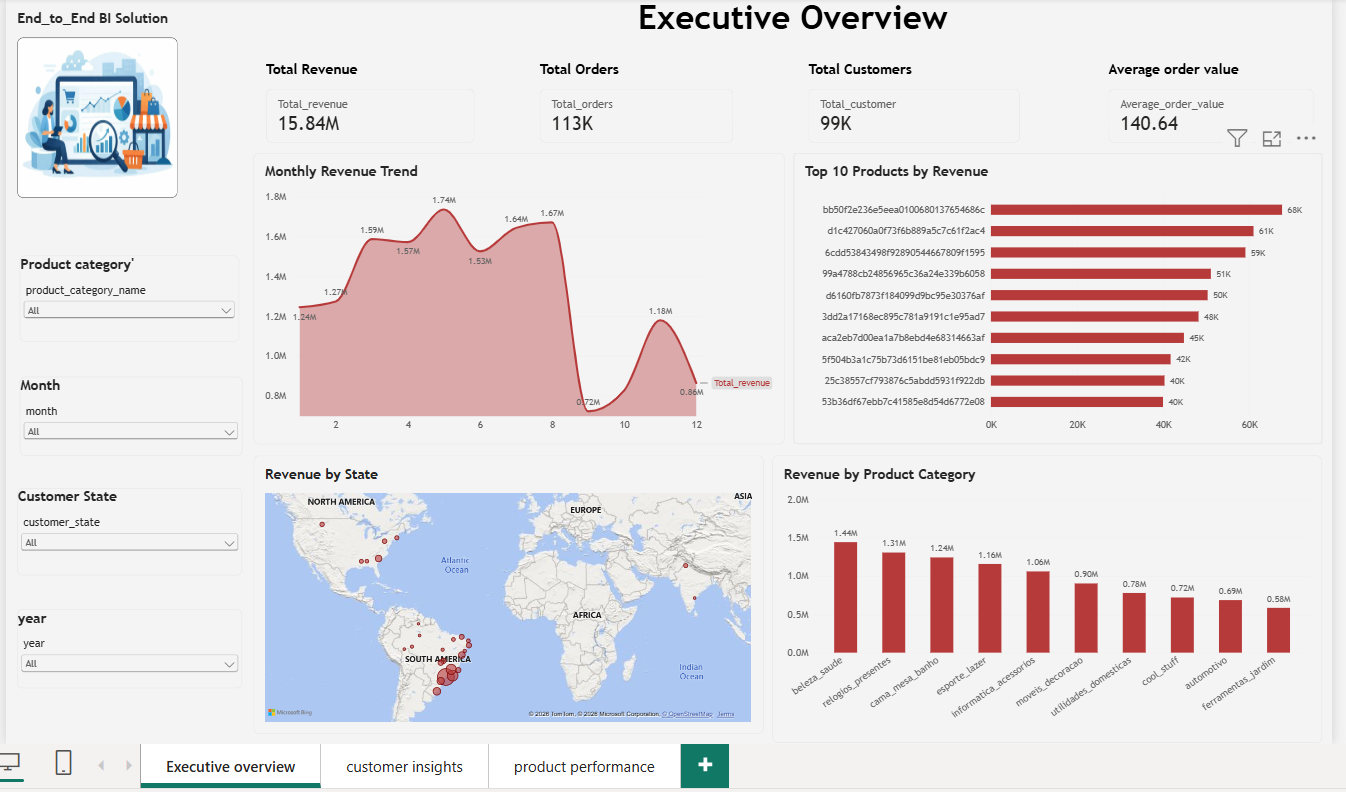

What the dashboard file says about the page in this screenshot:
{"tool":"powerbi","page":{"name":"Executive overview","canvas":[1920,1080],"ordinal":0},"visuals":[{"type":"cardVisual","title":"Total Revenue","fields":{"Data":["olist_bi fact_sales.Total_revenue"]},"box":[376,91.7,302.7,117.4],"z":0},{"type":"cardVisual","title":"Total Orders","fields":{"Data":["olist_bi fact_sales.Total_orders"]},"box":[772.2,91.7,280.6,117.4],"z":1000},{"type":"cardVisual","title":"Total Customers","fields":{"Data":["olist_bi dim_customer.Total_customer"]},"box":[1161.1,91.7,306.3,117.4],"z":2000},{"type":"cardVisual","title":"Average order value","fields":{"Data":["olist_bi fact_sales.Average_order_value"]},"box":[1595.8,91.7,297.1,117.4],"z":3000},{"type":"lineChart","title":"Monthly Revenue Trend","fields":{"Category":["olist_bi fact_sales.month"],"Y":["olist_bi fact_sales.Total_revenue"]},"box":[357.7,223.8,768.6,421.9],"z":4000},{"type":"slicer","title":"year","fields":{"Values":["olist_bi fact_sales.year"]},"box":[16.3,884.9,325.7,114],"z":5000},{"type":"slicer","title":"Month","fields":{"Values":["olist_bi fact_sales.month"]},"box":[19.9,548.3,322.1,114],"z":6000},{"type":"slicer","title":"Product category''","fields":{"Values":["olist_bi dim_product.product_category_name"]},"box":[19.9,372.8,317.3,124.7],"z":7000},{"type":"slicer","title":"Customer State","fields":{"Values":["olist_bi dim_customer.customer_state"]},"box":[16.3,709.4,325.7,126.7],"z":8000},{"type":"barChart","title":"Top 10 Products by Revenue","fields":{"Category":["olist_bi dim_product.product_id"],"Y":["olist_bi fact_sales.Total_revenue"]},"box":[1140.9,223.8,765.5,421.7],"z":9001},{"type":"columnChart","title":"Revenue by Product Category","fields":{"Category":["olist_bi dim_product.product_category_name"],"Y":["olist_bi fact_sales.Total_revenue"]},"box":[1109.3,662.3,796.3,416.2],"z":9002},{"type":"textbox","box":[358.3,0,1561.7,74.2],"z":9003},{"type":"image","title":"End_to_End BI Solution","box":[16.3,18.1,231.6,271.4],"z":9004},{"type":"map","title":"Revenue by State","fields":{"Category":["olist_bi dim_customer.customer_state"],"Size":["olist_bi fact_sales.Total_revenue"]},"box":[358.3,662.3,738.3,403.6],"z":9005}]}

Visuals, with their boxes on the page's 1920x1080 design canvas (x1, y1, x2, y2). These are canvas units, not pixel positions in the 1346x792 screenshot, which may show the page scaled, cropped or inside an application window:
"Total Revenue" cardVisual: box(376, 92, 679, 209)
"Total Orders" cardVisual: box(772, 92, 1053, 209)
"Total Customers" cardVisual: box(1161, 92, 1467, 209)
"Average order value" cardVisual: box(1596, 92, 1893, 209)
"Monthly Revenue Trend" lineChart: box(358, 224, 1126, 646)
"year" slicer: box(16, 885, 342, 999)
"Month" slicer: box(20, 548, 342, 662)
"Product category''" slicer: box(20, 373, 337, 498)
"Customer State" slicer: box(16, 709, 342, 836)
"Top 10 Products by Revenue" barChart: box(1141, 224, 1906, 646)
"Revenue by Product Category" columnChart: box(1109, 662, 1906, 1078)
textbox: box(358, 0, 1920, 74)
"End_to_End BI Solution" image: box(16, 18, 248, 290)
"Revenue by State" map: box(358, 662, 1097, 1066)
